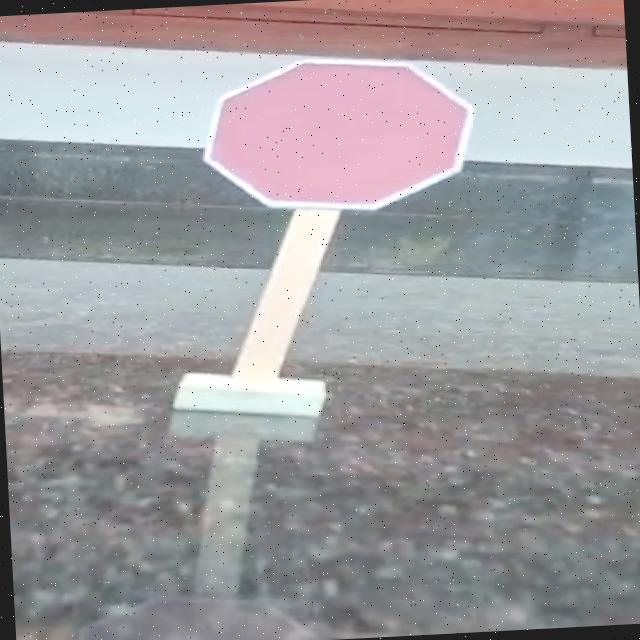Stop: (176, 34, 494, 232)
